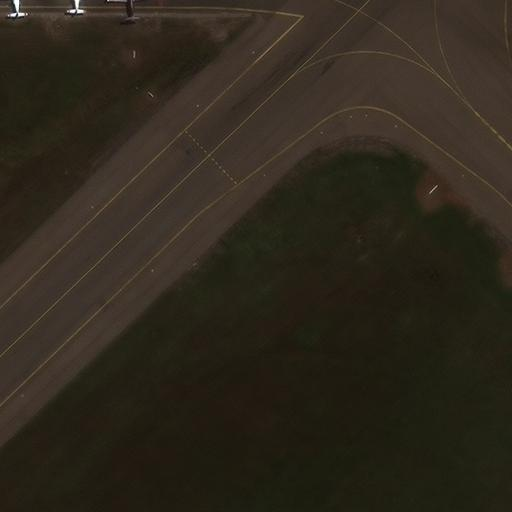Medium Civil Transport: (109, 0, 149, 21), (0, 0, 32, 18)
